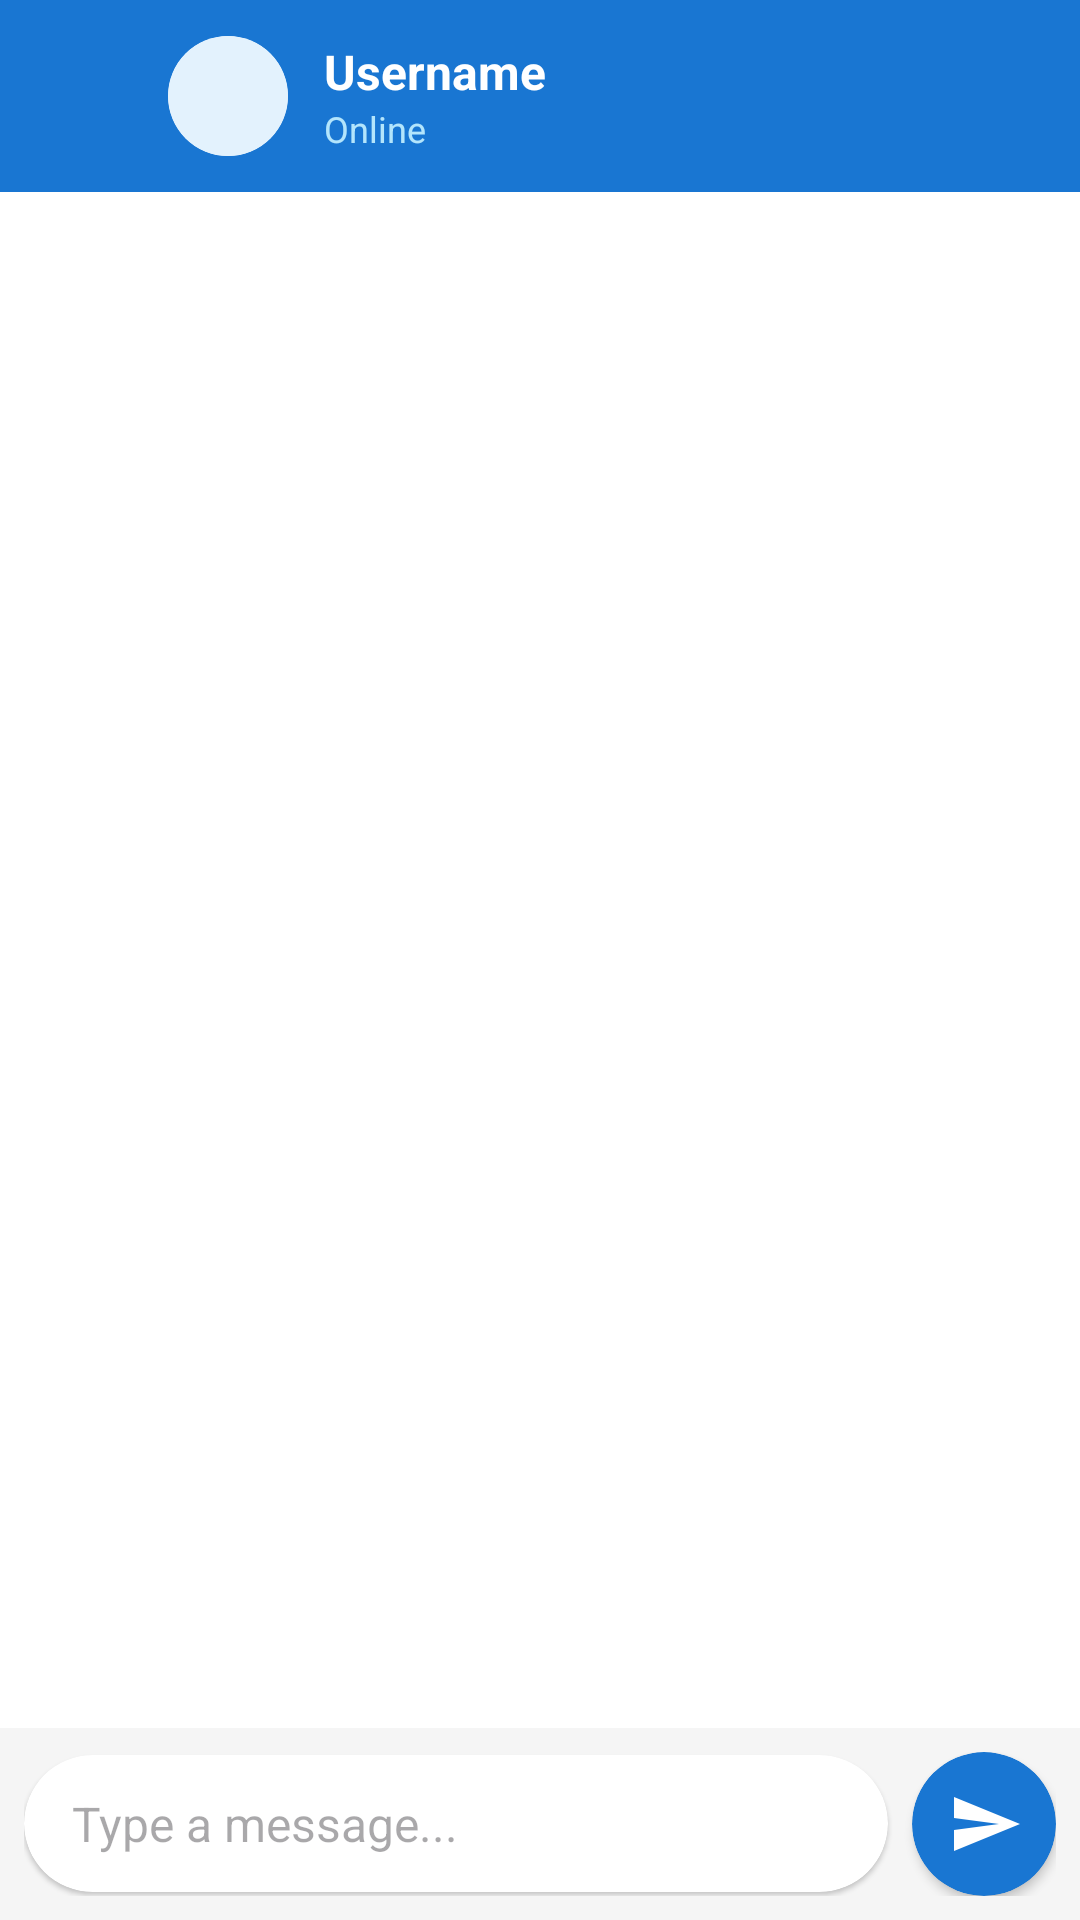

Where to tap for icons on this 1080w x 1920h app screen, as (x=x, y=y):
send: (x=987, y=1824)
